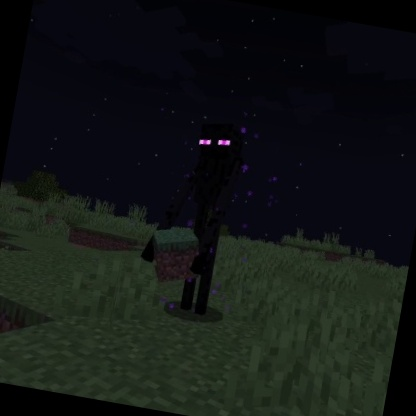enderman: (129, 108, 255, 323)
